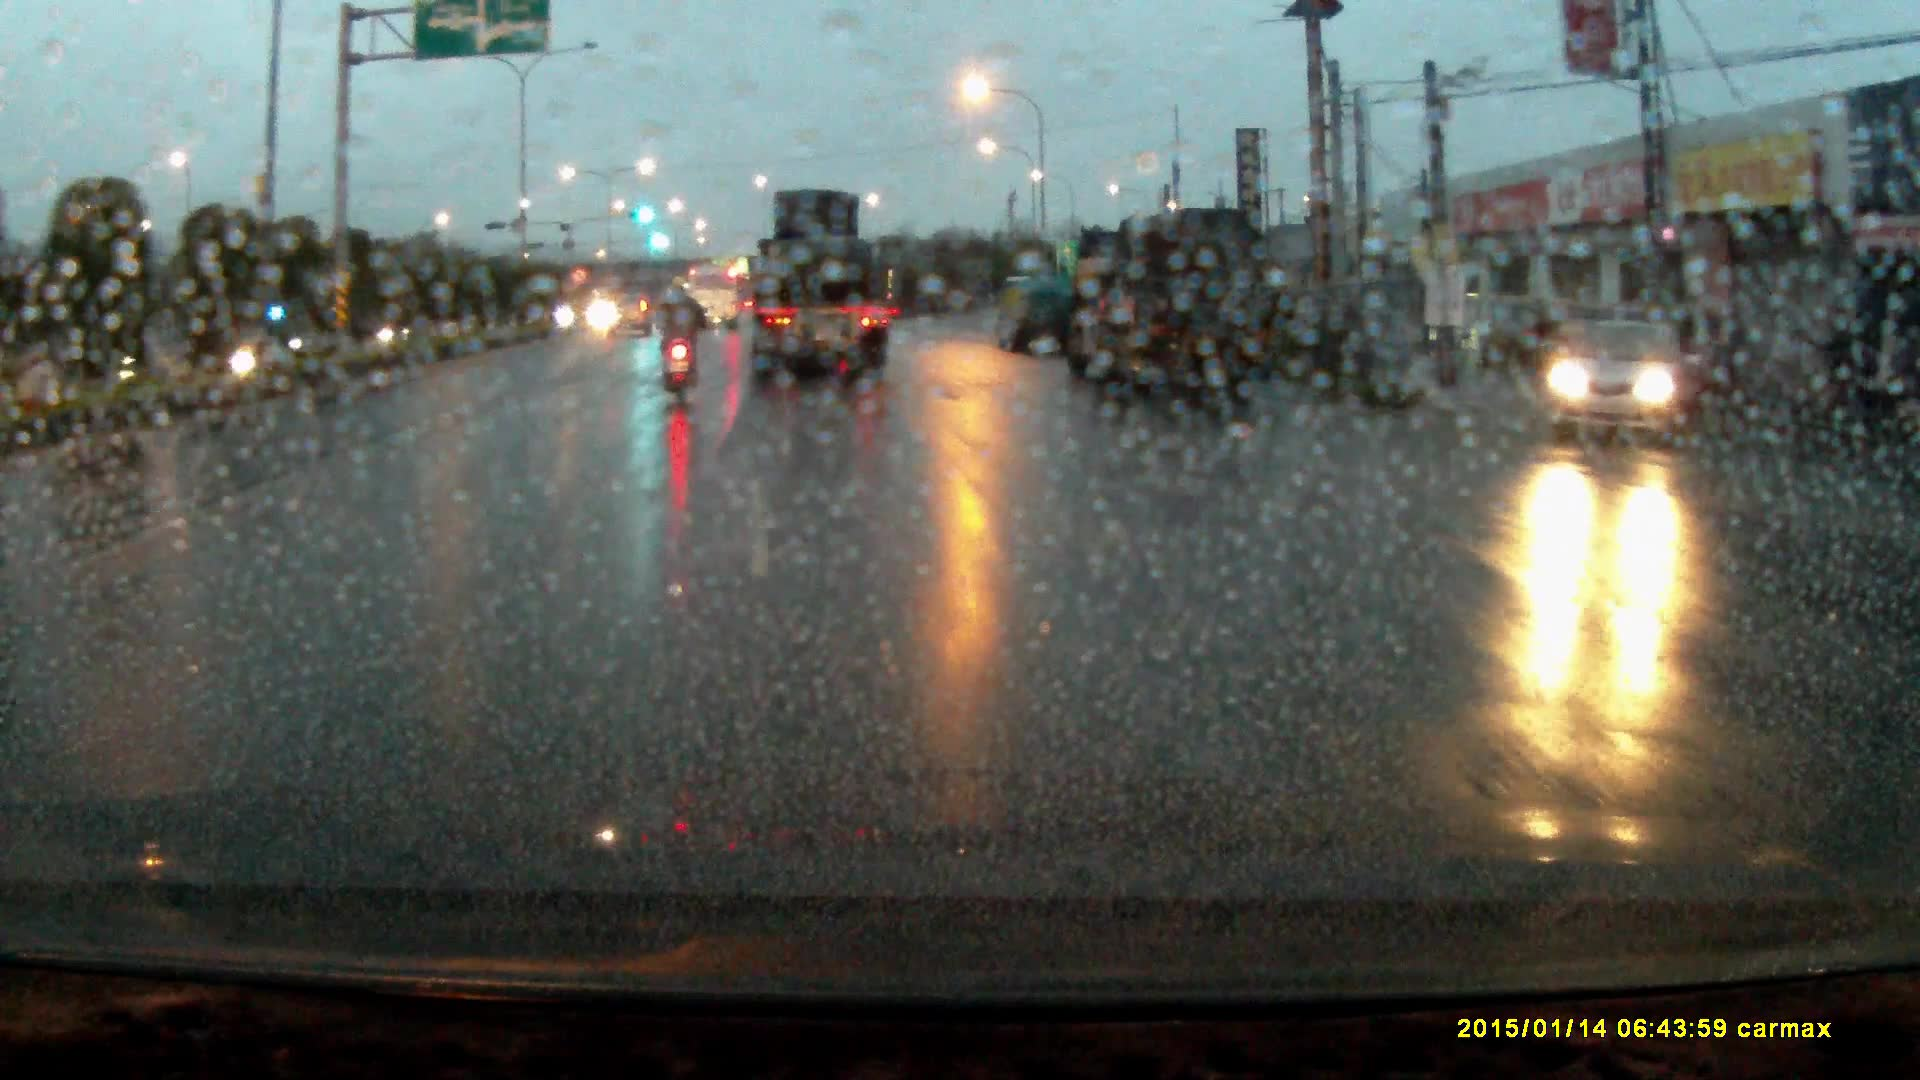rider: (653, 271, 710, 407)
vehicle: (1069, 200, 1281, 408), (750, 191, 890, 384), (1543, 313, 1726, 449), (999, 274, 1081, 355), (690, 265, 739, 329), (600, 288, 653, 337)
